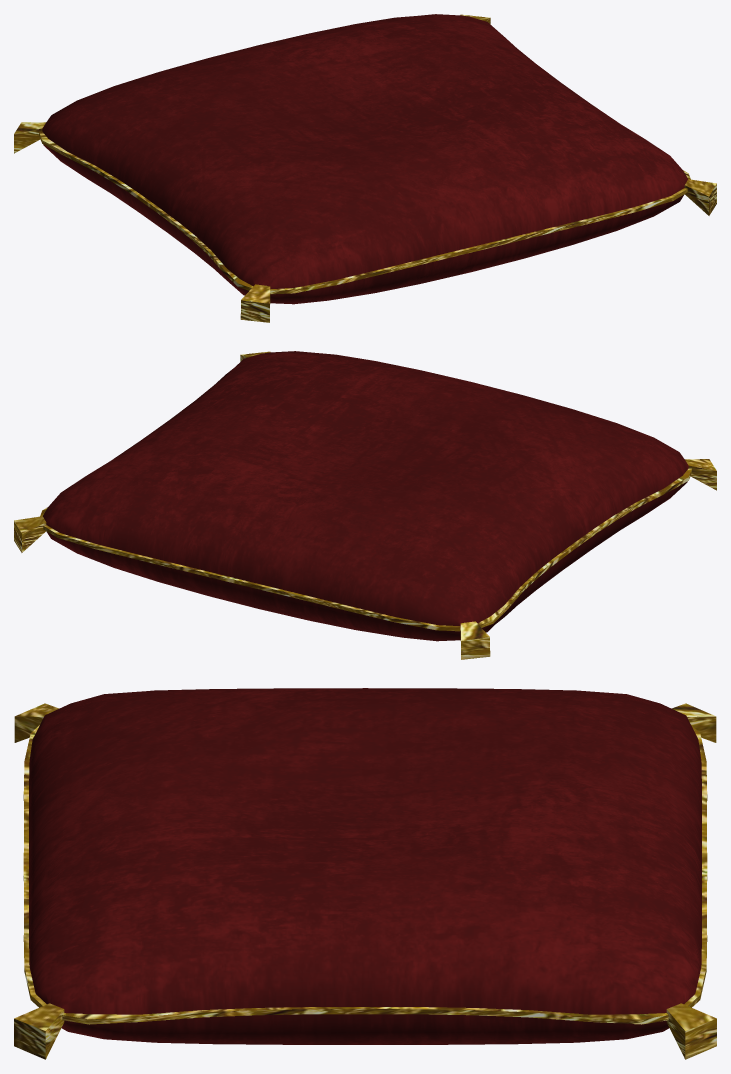
Rendered from Elec_pillow.fbx.
3 views of the same model, one above another, from view 1: azimuth 30°, elevation 25°; view 2: azimuth 150°, elevation 25°; view 3: azimuth 270°, elevation 25° (orthographic). The views are drawn at different scales.
Parts seen in each view (by area): view 1: Cube; view 2: Cube; view 3: Cube.
Boxes of the visible parts, x1,y1,x2,y2 form: Cube: [14, 14, 716, 322]; Cube: [14, 351, 716, 659]; Cube: [14, 688, 716, 1059].
Bounding box in the file's own units: 246 × 54.34 × 223.
1 material, 1 textured.
